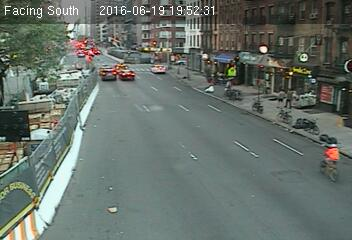neg: (252, 96, 268, 117), (252, 70, 268, 90), (239, 67, 251, 83), (235, 94, 245, 107), (218, 60, 225, 70)
pos: (283, 88, 299, 110), (273, 87, 288, 107)
